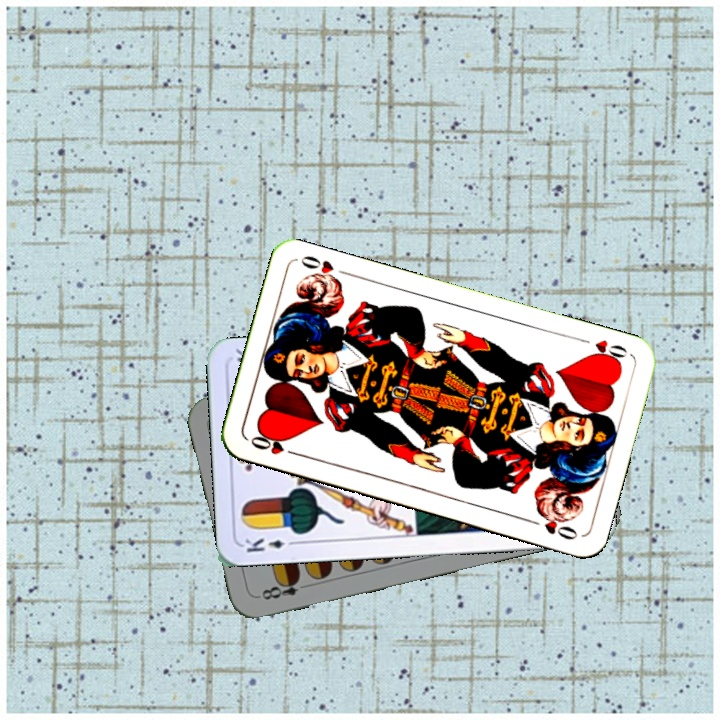E8: (254, 573, 313, 603)
EK: (241, 534, 300, 555)
HO: (246, 429, 302, 459), (585, 335, 630, 367)
